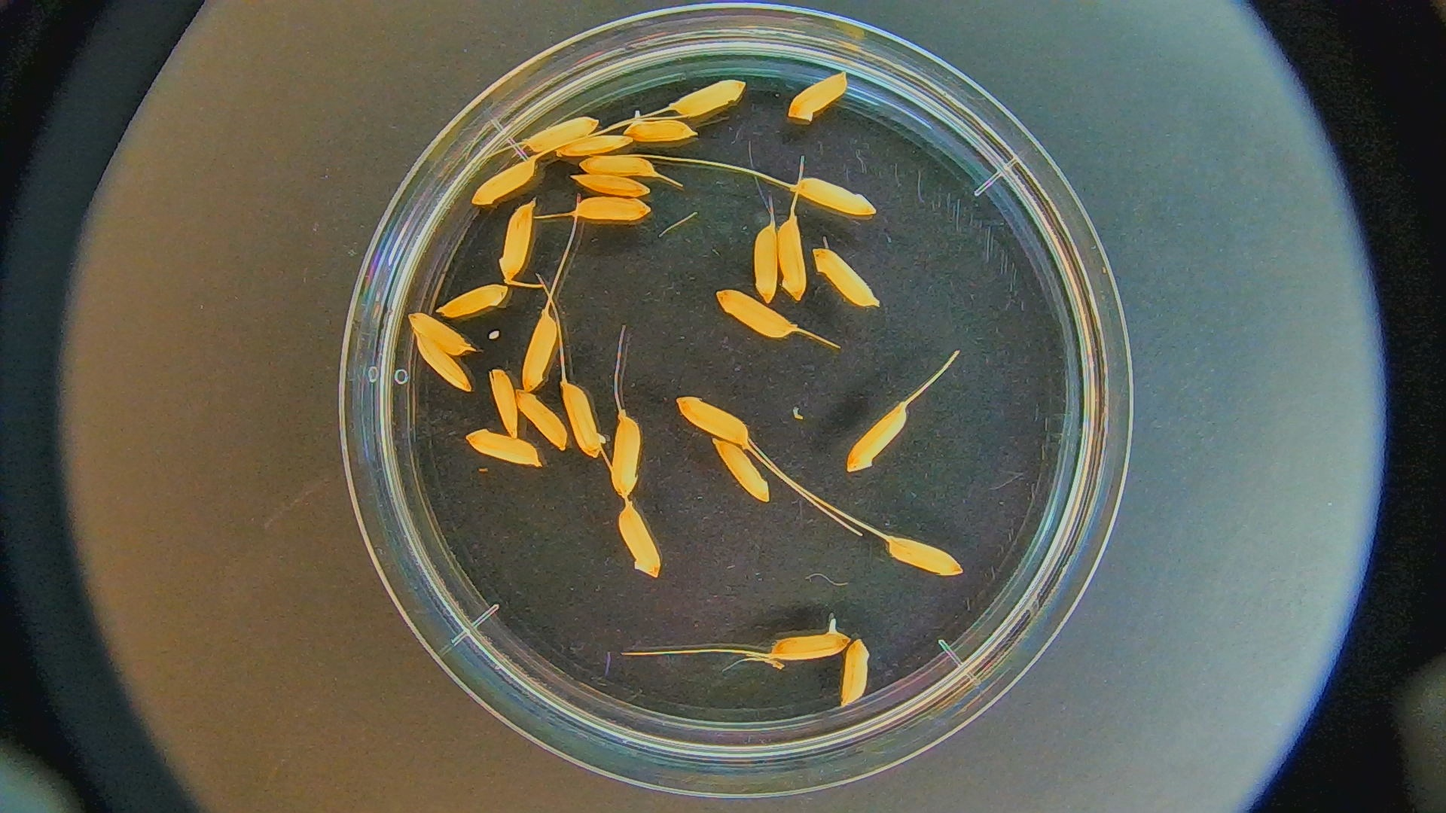no: (703, 434, 778, 504), (842, 398, 908, 477), (672, 388, 753, 448), (784, 171, 877, 223), (808, 244, 880, 309), (712, 285, 795, 340), (610, 504, 668, 580), (777, 68, 851, 126), (557, 382, 609, 459), (513, 389, 570, 455), (411, 332, 474, 391), (466, 157, 541, 206), (519, 308, 561, 390), (398, 311, 471, 358), (889, 534, 963, 580), (666, 76, 747, 117), (604, 416, 644, 498), (462, 429, 542, 469), (499, 196, 534, 285), (432, 279, 508, 318), (775, 218, 809, 297), (748, 215, 779, 299), (570, 170, 651, 202), (526, 116, 596, 152), (484, 367, 519, 437), (620, 112, 693, 145), (576, 192, 650, 224), (576, 155, 659, 182), (839, 640, 871, 709), (558, 136, 639, 160)
yes: (765, 626, 850, 663)
